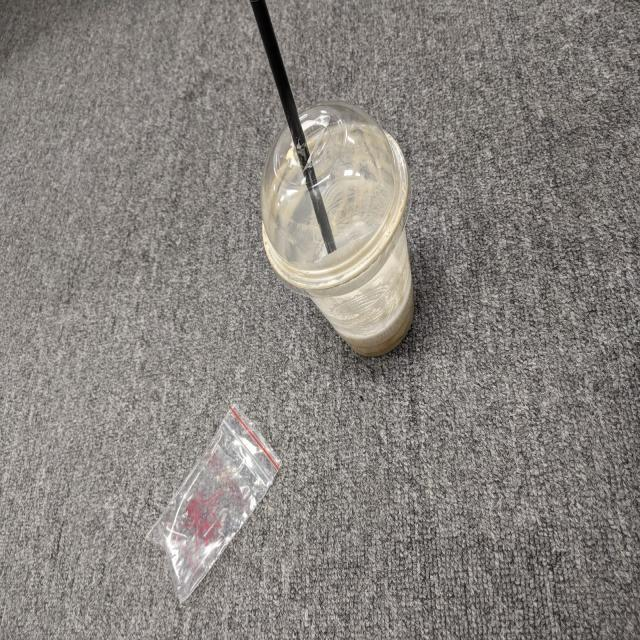drinking straw: (248, 0, 337, 257)
packet: (138, 400, 284, 604)
plastic glass: (260, 99, 416, 359)
